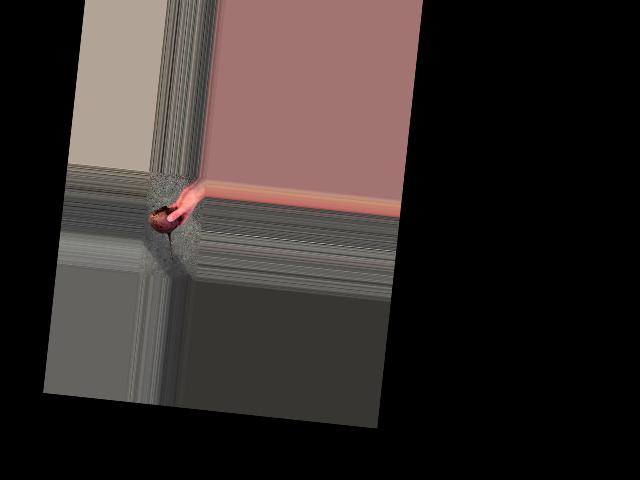beet: (144, 204, 180, 261)
